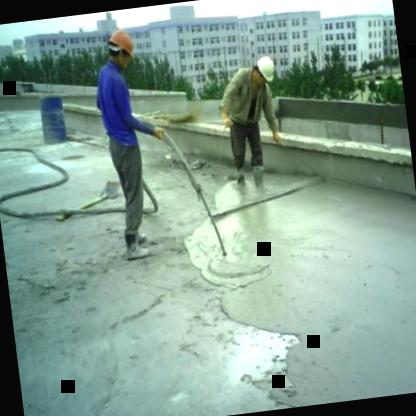helmet: (104, 24, 138, 70), (250, 52, 280, 92)
